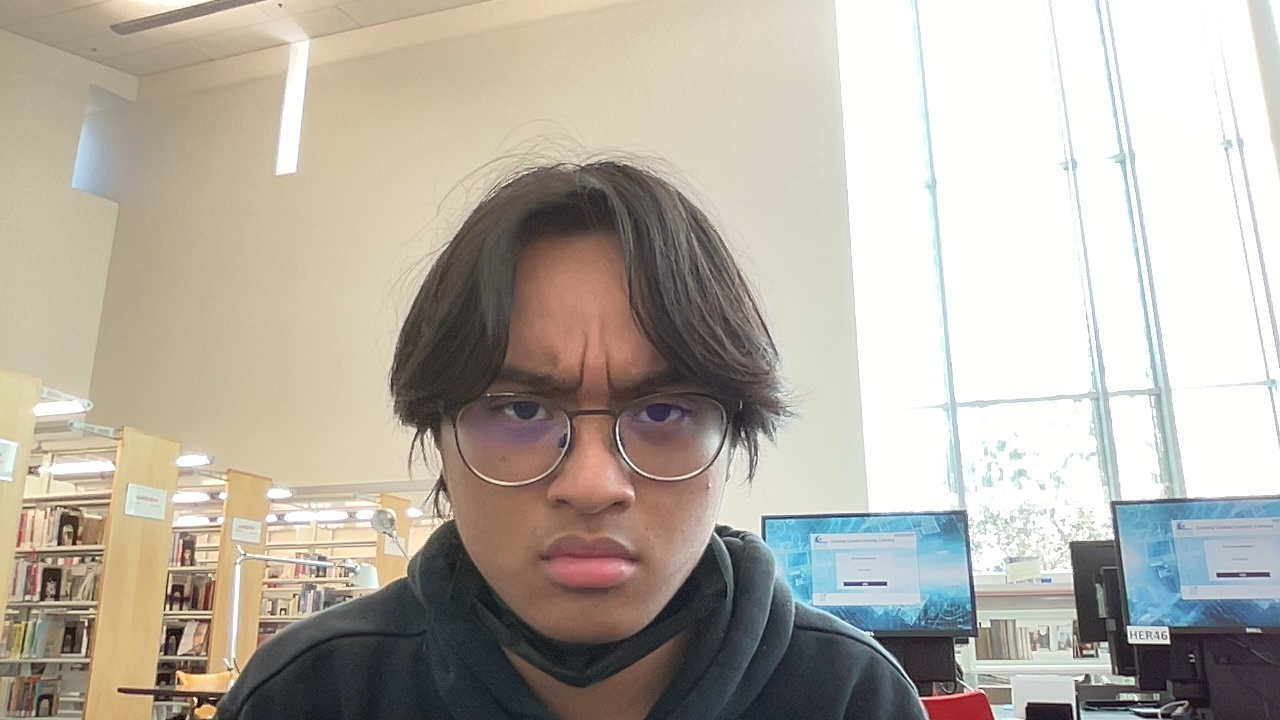anger: (386, 159, 790, 653)
